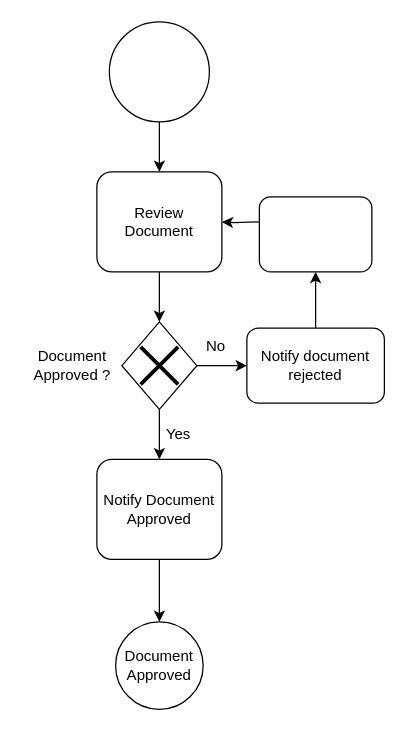
The diagram is 406 pixels wide and 731 high, and some of its shapes have lost their labels. Each missing label, with the centre of its shape:
"Initiate Workflow" belongs at [158,71].
"Modify Document" belongs at [315,234].
